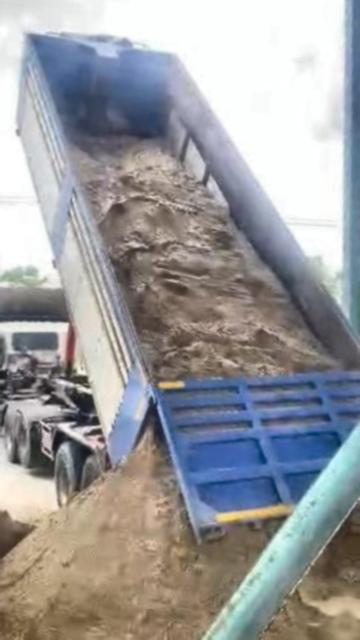sand: (72, 135, 340, 378), (0, 443, 267, 640), (192, 529, 356, 640), (0, 488, 31, 608)
